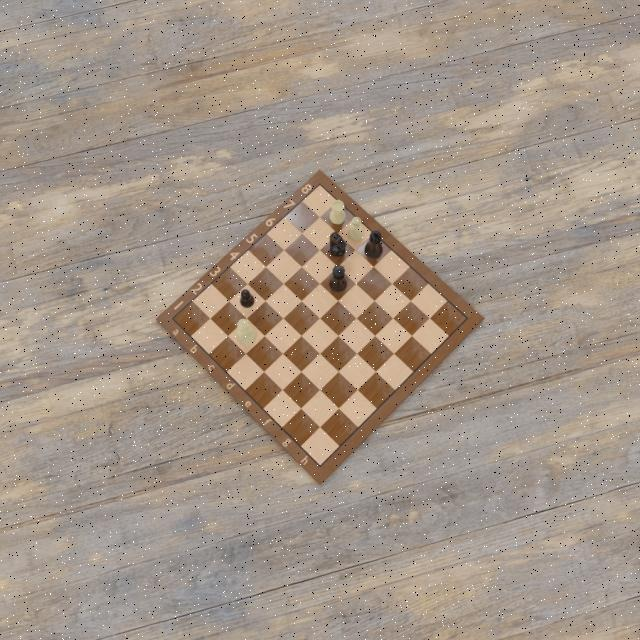black-king: (364, 230, 383, 260)
black-knight: (329, 230, 347, 257)
black-pawn: (239, 287, 254, 308)
black-queen: (328, 263, 347, 293)
white-bishop: (347, 215, 365, 241)
white-king: (236, 318, 256, 346)
white-rook: (329, 199, 346, 225)
